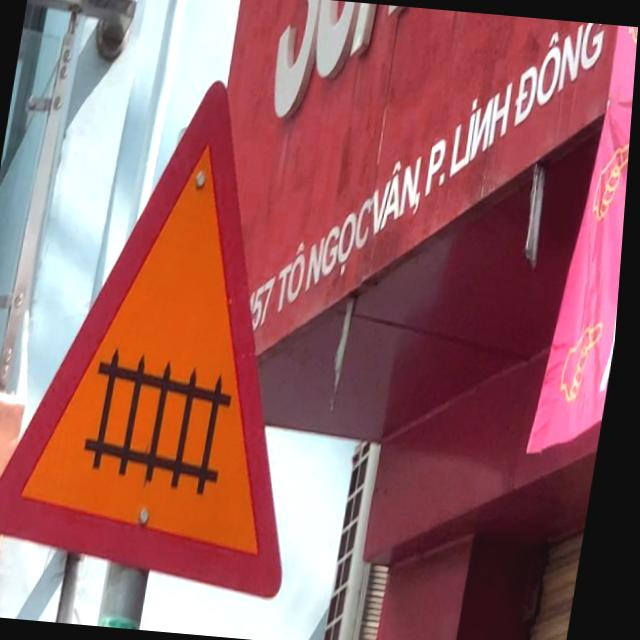Giao nhau voi duong sat co rao chan: (0, 61, 366, 609)
